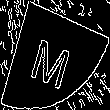M_N: (31, 23, 79, 87)
